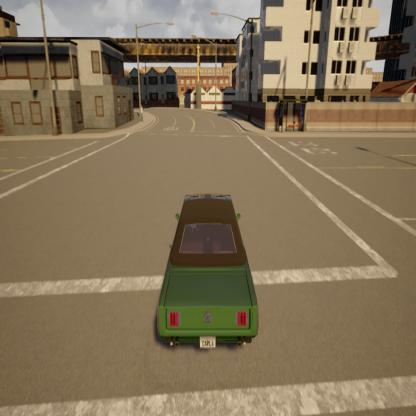Cars: (140, 164, 268, 368)
Pedestrian: (138, 104, 145, 132)
